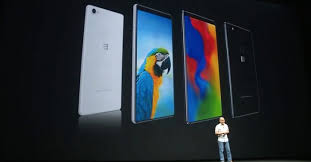bphone: (128, 3, 178, 124), (78, 2, 123, 118), (181, 7, 223, 124), (223, 19, 265, 121)
